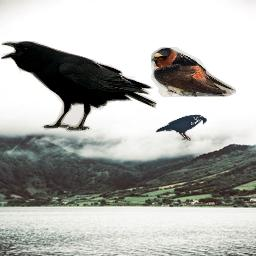Crow: (1, 41, 157, 132), (155, 114, 207, 141)
Swallow: (151, 47, 236, 97)
